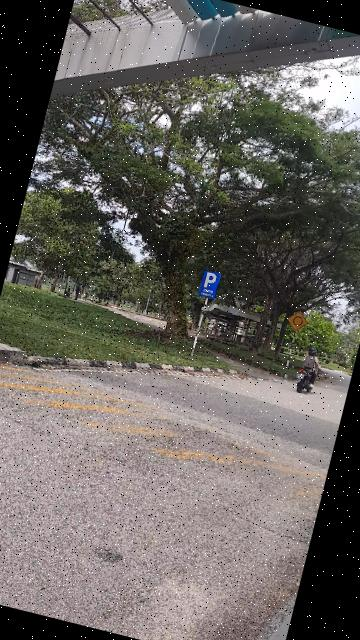motorcycle: (294, 346, 326, 398)
